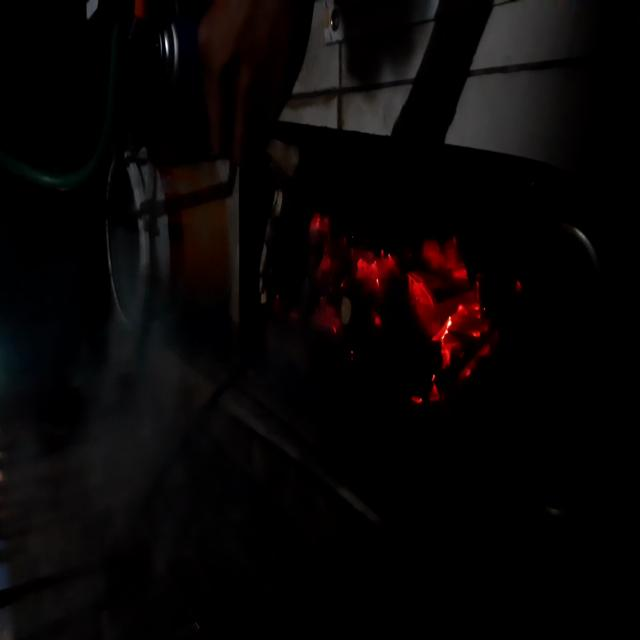Fire: (303, 198, 500, 424)
